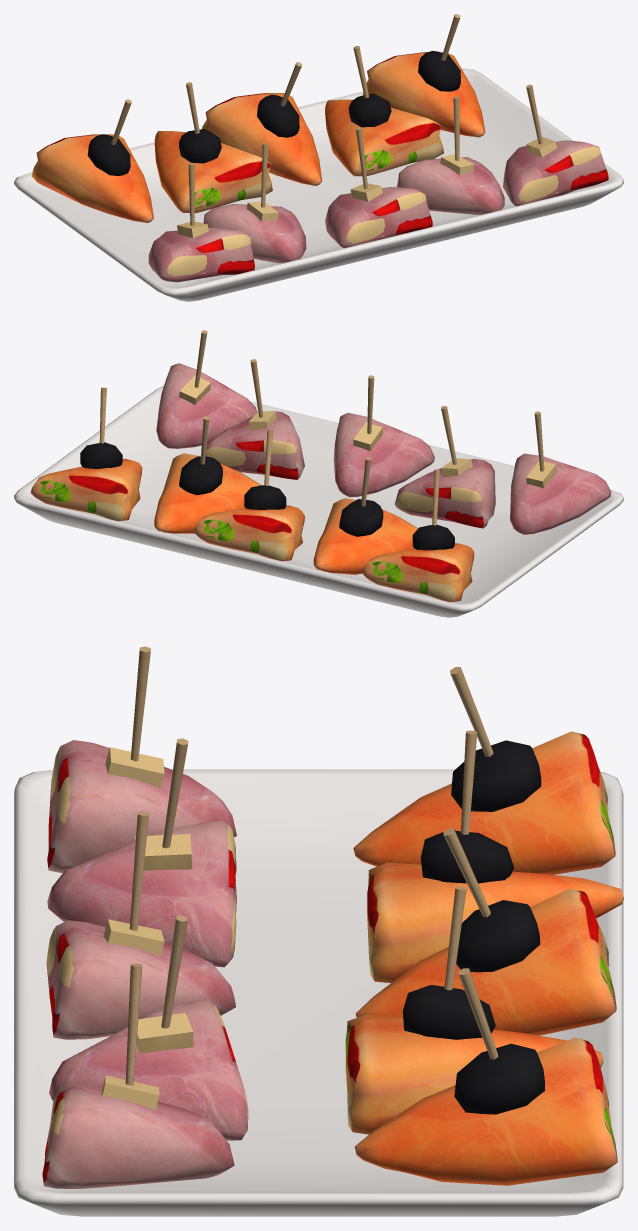
Rendered from BuffetSnacks02_2.FBX.
The picture shows the model from 3 angles, top to bottom: view 1: azimuth 30°, elevation 25°; view 2: azimuth 150°, elevation 25°; view 3: azimuth 270°, elevation 25°; orthographic projection. The views are drawn at different scales.
Parts seen in each view (by area): view 1: BuffetSnacks02_2; view 2: BuffetSnacks02_2; view 3: BuffetSnacks02_2.
Part boxes in pixels (bbox=[...]): BuffetSnacks02_2: bbox=[14, 14, 623, 301]; BuffetSnacks02_2: bbox=[14, 330, 623, 617]; BuffetSnacks02_2: bbox=[14, 646, 623, 1216].
Size of what is drawn, in the model's own units: 0.4959 by 0.1196 by 0.2976.
